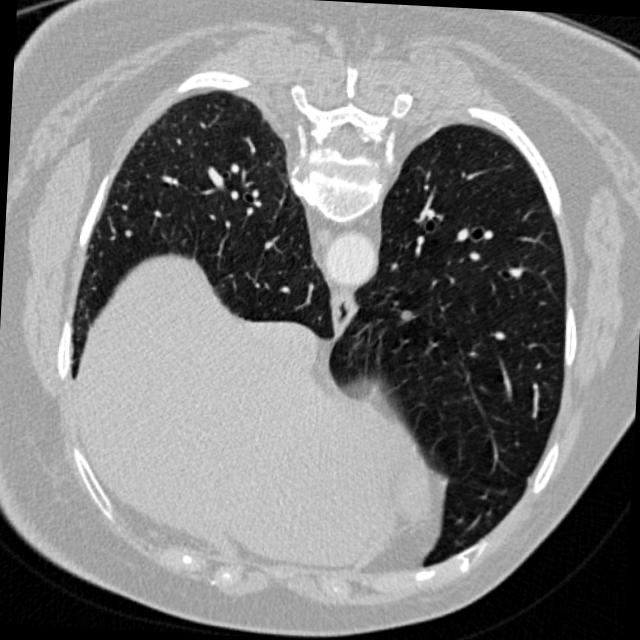nodule: (392, 302, 418, 328)
